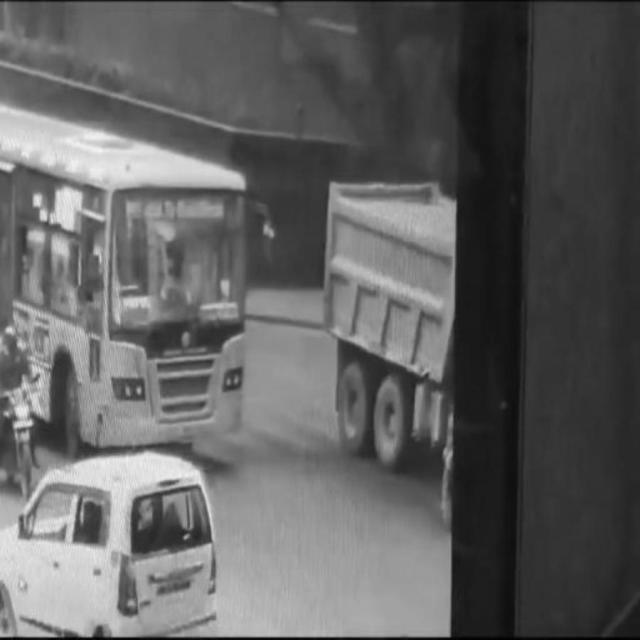vehicle: (0, 106, 242, 433), (326, 176, 458, 496), (0, 455, 218, 635), (1, 322, 39, 506)
